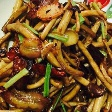chashugu: (1, 1, 112, 112)
